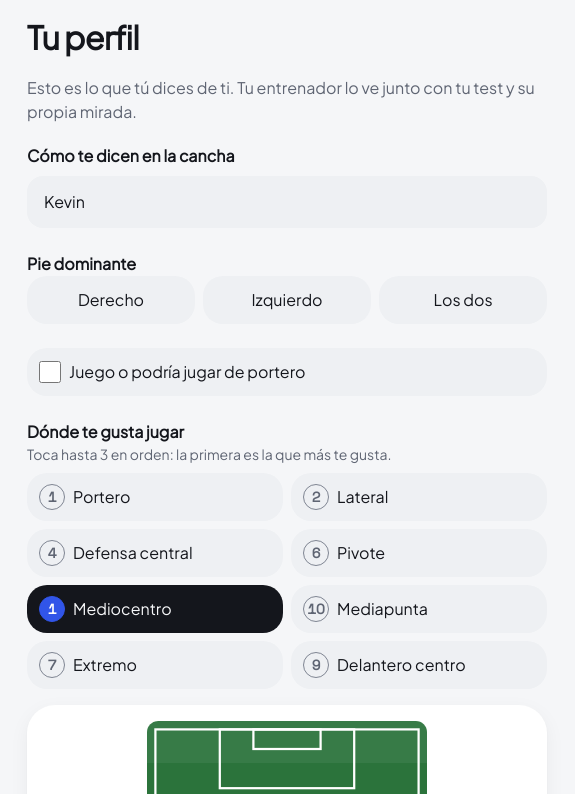
Test case: ProfilePage › guarda nombre, pie, portero y posiciones en orden
The width and height of the screenshot is (575, 794).
Replace the text in the field labelled "Cómo te dicen en la cancha" with "Kevo" at (287, 202), box top-left (27, 176), bottom-right (547, 228)
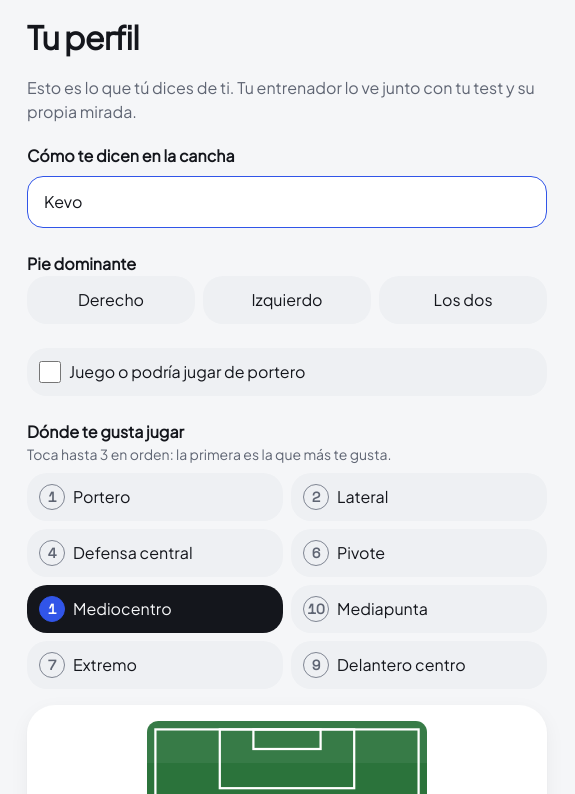
Click the radio button labelled "Izquierdo" at (287, 300), box top-left (203, 276), bottom-right (371, 324)
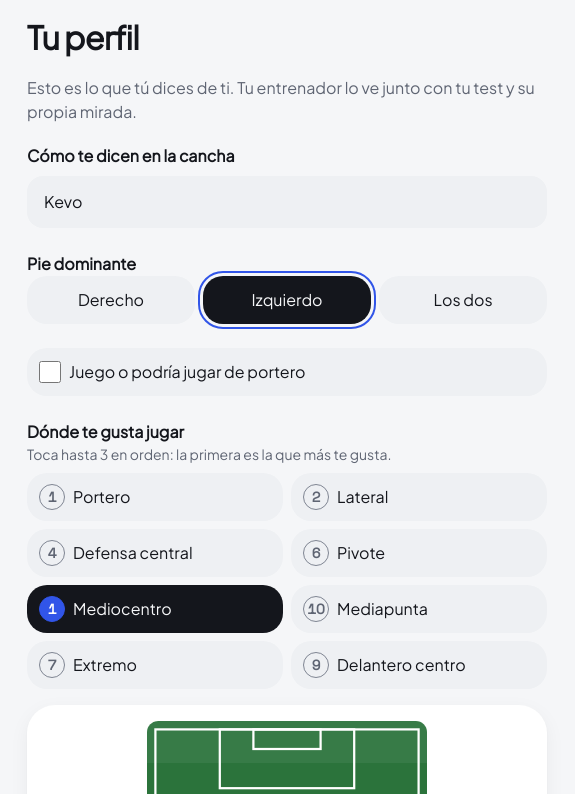
Click the checkbox labelled "Juego o podría jugar de portero" at (50, 372), box top-left (39, 361), bottom-right (61, 383)
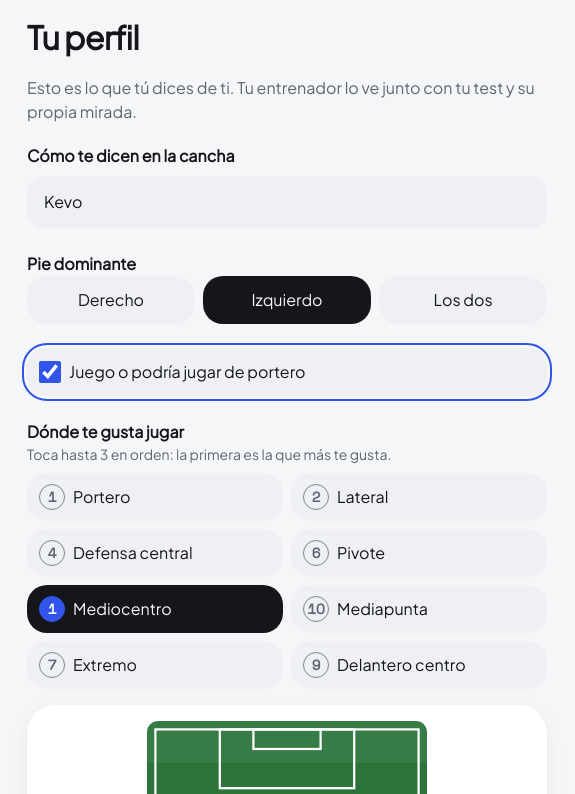
Click the button "6 Pivote" at (419, 553), box top-left (291, 529), bottom-right (547, 577)
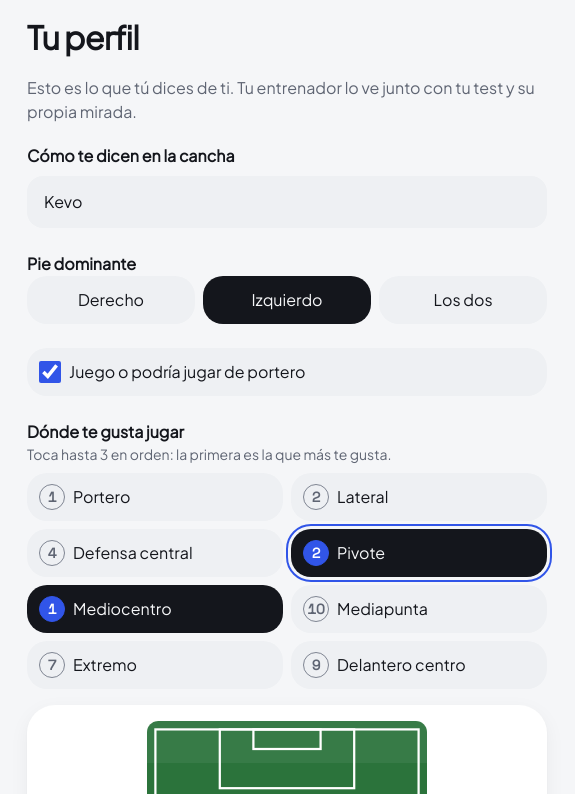
Click the button "4 Defensa central" at (155, 553), box top-left (27, 529), bottom-right (283, 577)
(page scrolled)
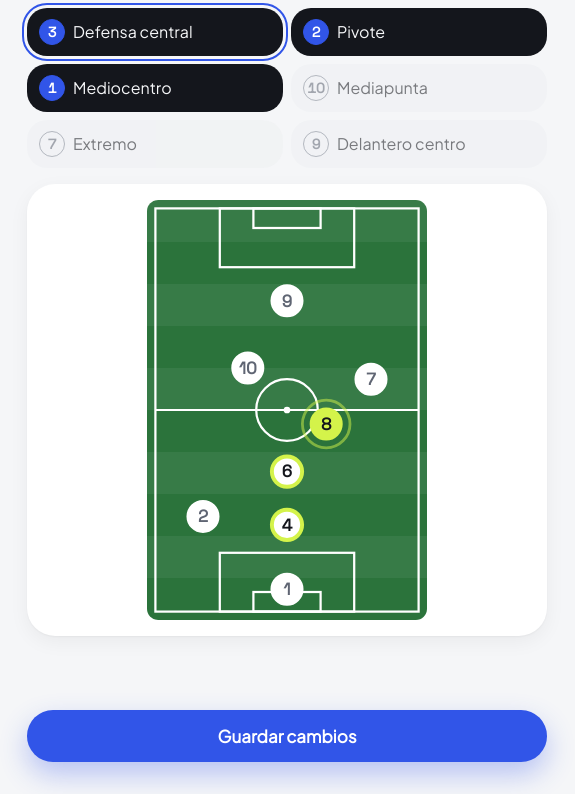
Expected: the button "7 Extremo" is disabled, top-left (27, 120), bottom-right (283, 168)
Click the button "Guardar cambios" at (287, 736), box top-left (27, 710), bottom-right (547, 762)
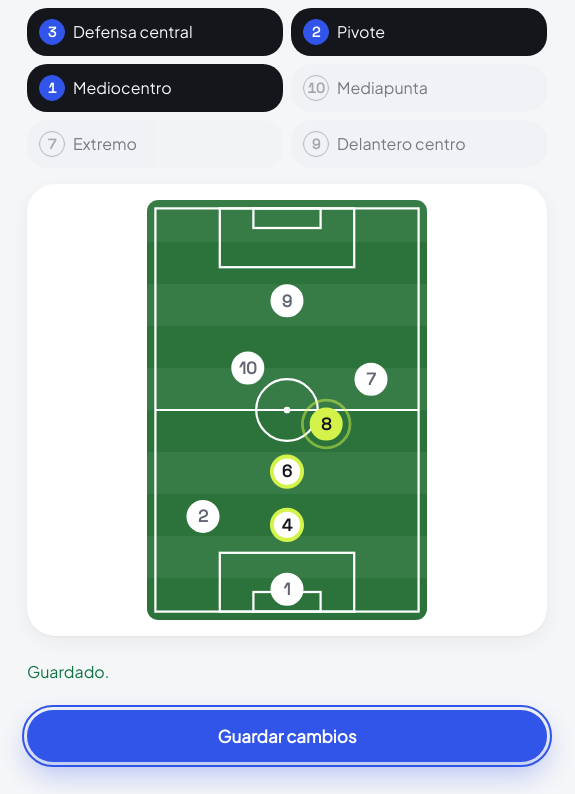
Expected: the text "Guardado." is shown, top-left (27, 661), bottom-right (109, 682)
